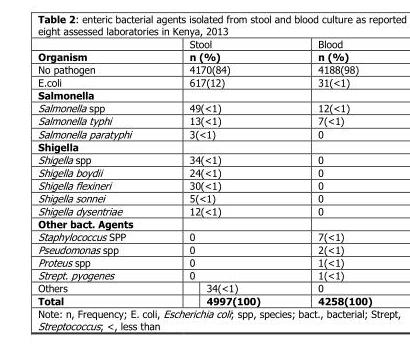table: (36, 37, 371, 306)
table column: (161, 37, 288, 306), (36, 37, 161, 306), (288, 37, 371, 306)
table column header: (36, 37, 371, 62)
table projected row header: (36, 139, 371, 152), (36, 216, 371, 229), (36, 88, 371, 100)
table row: (36, 49, 371, 62), (36, 62, 371, 75), (36, 75, 371, 88), (36, 100, 371, 113), (36, 113, 371, 126), (36, 126, 371, 139), (36, 139, 371, 152), (36, 152, 371, 165), (36, 165, 371, 178), (36, 178, 371, 191), (36, 191, 371, 204), (36, 216, 371, 229), (36, 229, 371, 242), (36, 242, 371, 255), (36, 255, 371, 268), (36, 280, 371, 293), (36, 293, 371, 306), (36, 37, 371, 49), (36, 88, 371, 100), (36, 204, 371, 216), (36, 268, 371, 280)
table spanning cell: (161, 37, 288, 62), (36, 37, 161, 62), (288, 37, 371, 62)
